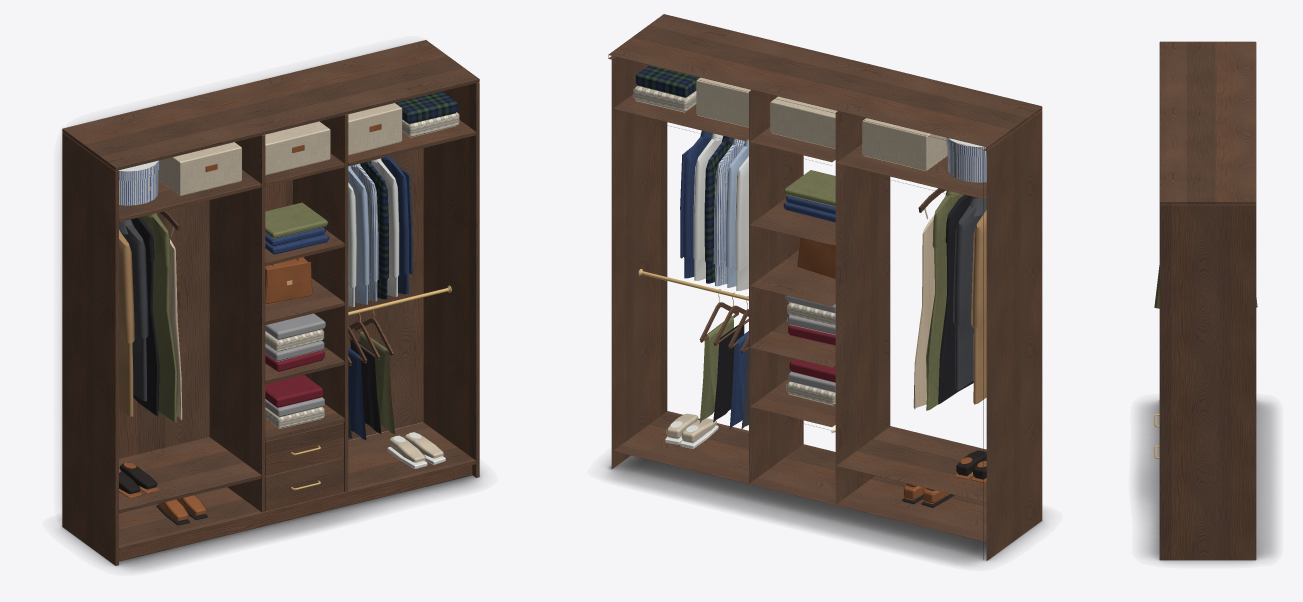
The model's file is open_wardrobe.glb.
The picture shows the model from 3 angles, left to right: view 1: azimuth 30°, elevation 25°; view 2: azimuth 150°, elevation 25°; view 3: azimuth 270°, elevation 25°; orthographic projection. The views are drawn at different scales.
Parts seen in each view (by area): view 1: open_wardrobe_LOD0, open_wardrobe_Shadow; view 2: open_wardrobe_LOD0, open_wardrobe_Shadow; view 3: open_wardrobe_LOD0, open_wardrobe_Shadow.
Boxes of the visible parts, x1,y1,x2,y2 form: open_wardrobe_LOD0: (62, 40, 479, 565); open_wardrobe_Shadow: (58, 151, 482, 569); open_wardrobe_LOD0: (608, 14, 1042, 560); open_wardrobe_Shadow: (605, 455, 1045, 565); open_wardrobe_LOD0: (1154, 41, 1257, 560); open_wardrobe_Shadow: (1136, 400, 1275, 563).
Size of what is drawn, in the model's own units: 2.56 by 2.54 by 0.96.
6 materials, 4 textured.
